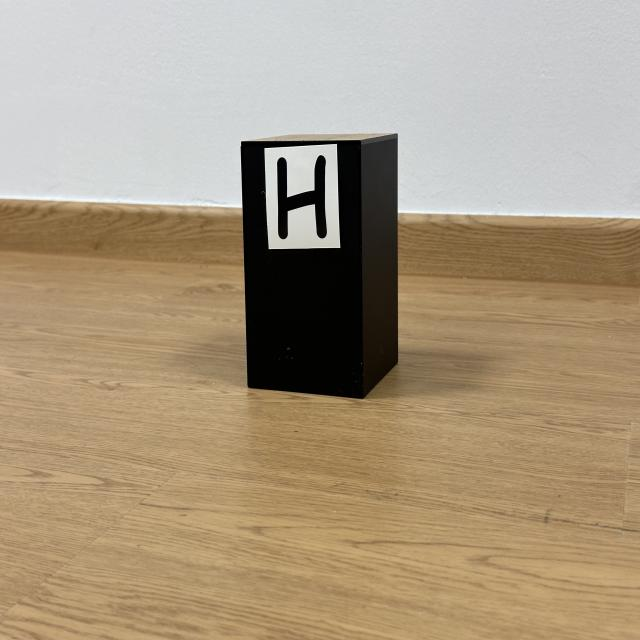H: (276, 155, 328, 238)
